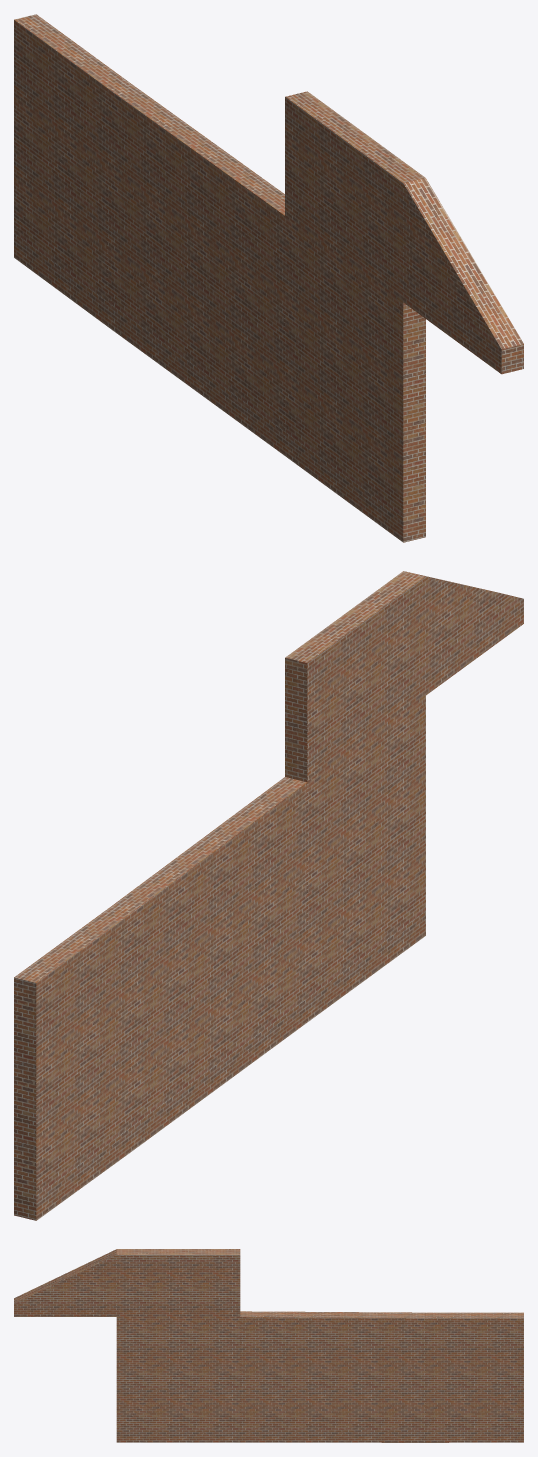
File: wall1.fbx
3 renders of one model, top to bottom at view 1: azimuth 30°, elevation 25°; view 2: azimuth 150°, elevation 25°; view 3: azimuth 270°, elevation 25°, orthographic. The views are drawn at different scales.
Parts seen in each view (by area): view 1: polySurface6; view 2: polySurface6; view 3: polySurface6.
Part boxes in pixels (left/top/right/bottom): polySurface6: left=14, top=14, right=523, bottom=542; polySurface6: left=14, top=571, right=523, bottom=1220; polySurface6: left=14, top=1249, right=523, bottom=1442.
Bounding box in the file's own units: 1.01 × 14.76 × 36.31.
